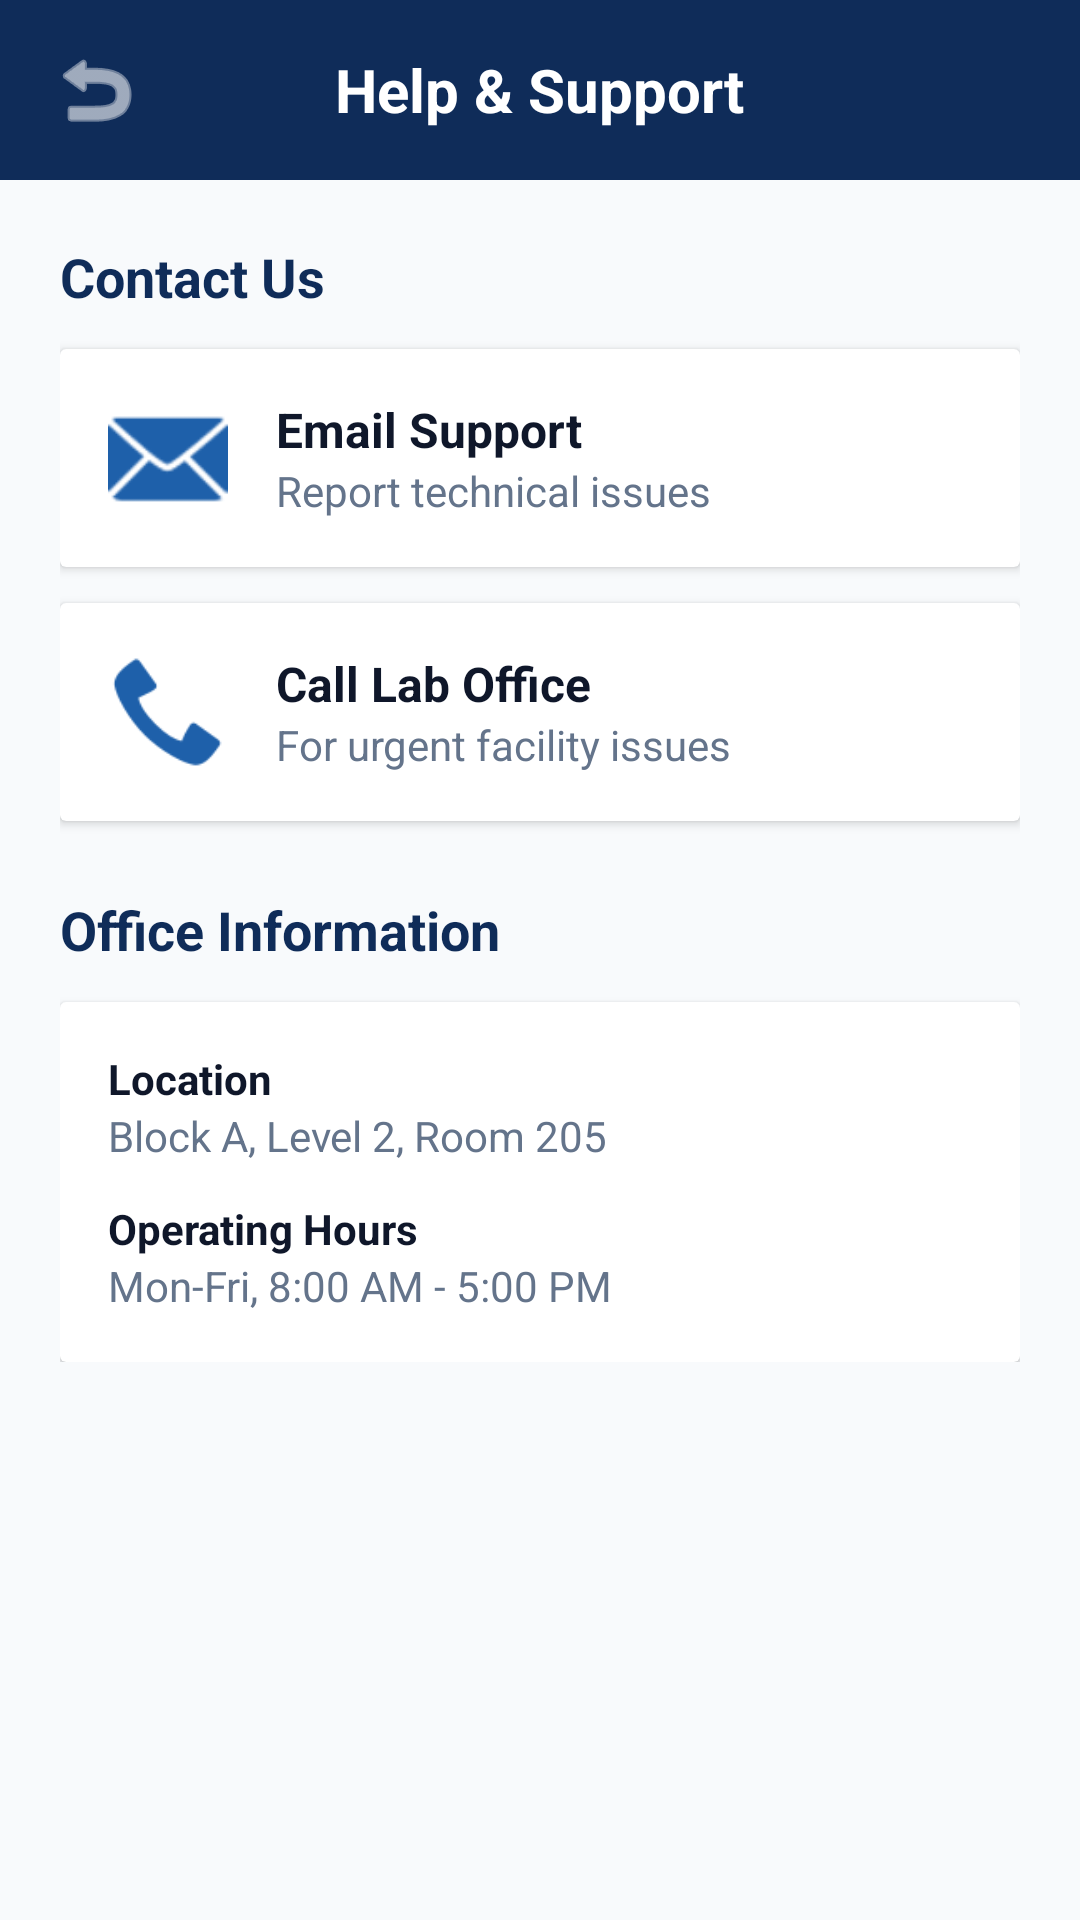

Named icons in this screenshot (1080*1920) and their centers, [x,y]:
Back: [97,90]
